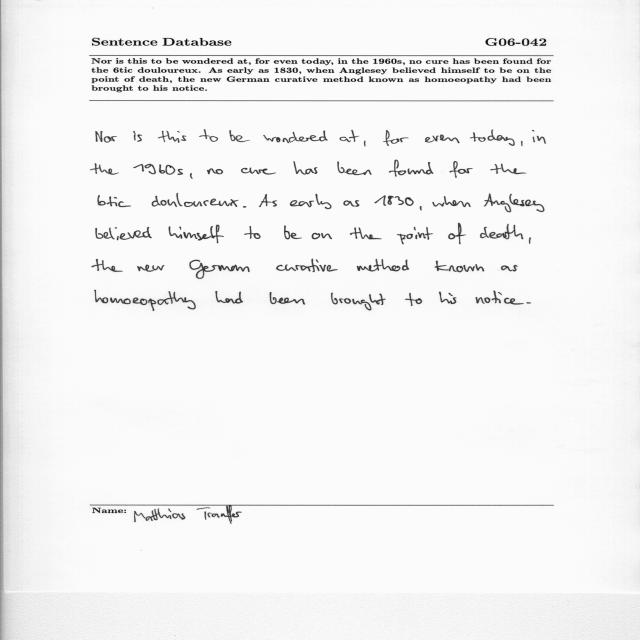word: (94, 290, 196, 311), (152, 193, 239, 207), (189, 260, 250, 279), (484, 194, 544, 213), (169, 225, 224, 244), (331, 293, 386, 311), (263, 131, 328, 144), (276, 259, 338, 272), (470, 129, 515, 146), (389, 160, 433, 177), (96, 227, 152, 240), (357, 259, 409, 272), (476, 291, 524, 305), (480, 224, 523, 239), (290, 194, 331, 209), (397, 227, 433, 244), (134, 164, 184, 175), (435, 261, 485, 272), (337, 161, 372, 175), (270, 292, 305, 305), (374, 195, 414, 206), (432, 196, 471, 207), (92, 259, 123, 272), (383, 130, 408, 146), (98, 195, 131, 207), (450, 161, 473, 178), (350, 228, 382, 240), (448, 223, 466, 244), (491, 164, 527, 174), (293, 161, 318, 175), (90, 163, 119, 175), (158, 131, 186, 143), (215, 291, 243, 303), (425, 135, 459, 144), (96, 131, 117, 143), (229, 130, 250, 142), (284, 226, 302, 240), (199, 129, 218, 142), (241, 168, 276, 175), (340, 130, 360, 142), (259, 194, 277, 207), (244, 226, 261, 239), (405, 293, 422, 306), (439, 292, 456, 304), (532, 130, 546, 144), (137, 265, 165, 272), (312, 233, 332, 239), (344, 200, 360, 207), (501, 265, 518, 271), (133, 131, 142, 142), (207, 169, 223, 175), (190, 173, 193, 179), (529, 237, 531, 244), (364, 141, 366, 147), (521, 141, 523, 146), (526, 302, 531, 304), (420, 206, 422, 210), (243, 206, 246, 208)
